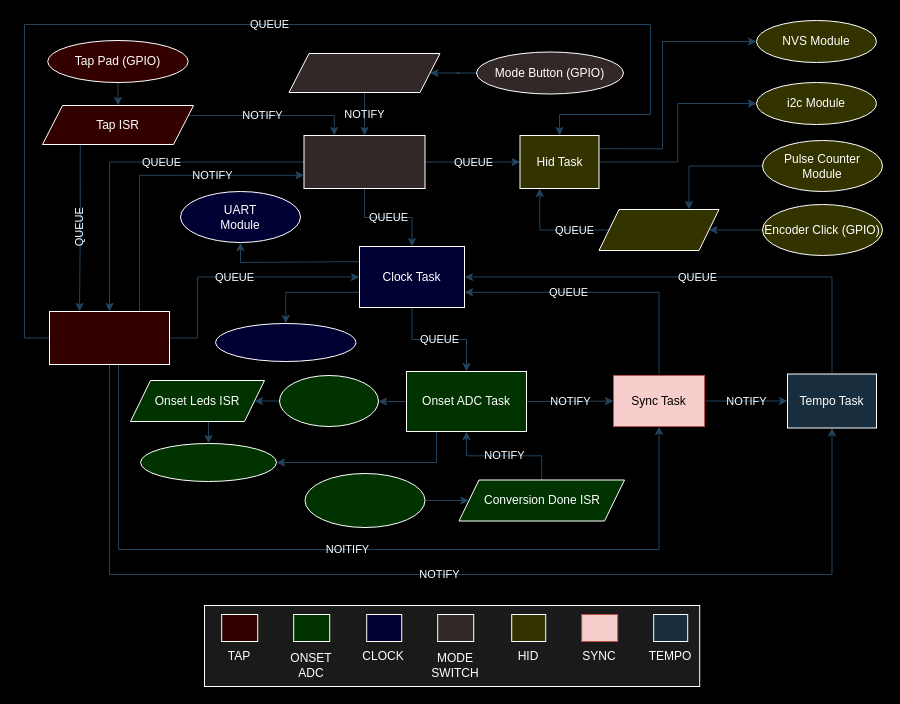
Some shapes in this 900 by 704 pixel diagram are drawn without their labels. The shapes that lost their labels are listed below. From the top down, each one's centre as x and y in pixels, then its label:
At (364,72): "Mode Switch ISR".
At (364,161): "Mode Switch Task".
At (658,229): "Encoder ISR".
At (109,337): "Tap Task".
At (285,342): "Clock Leds (GPIO)".
At (328,400): "Onset Leds Timer".
At (208,462): "Onset Leds (GPIO)".
At (364,500): "Continuous ADC Module".
